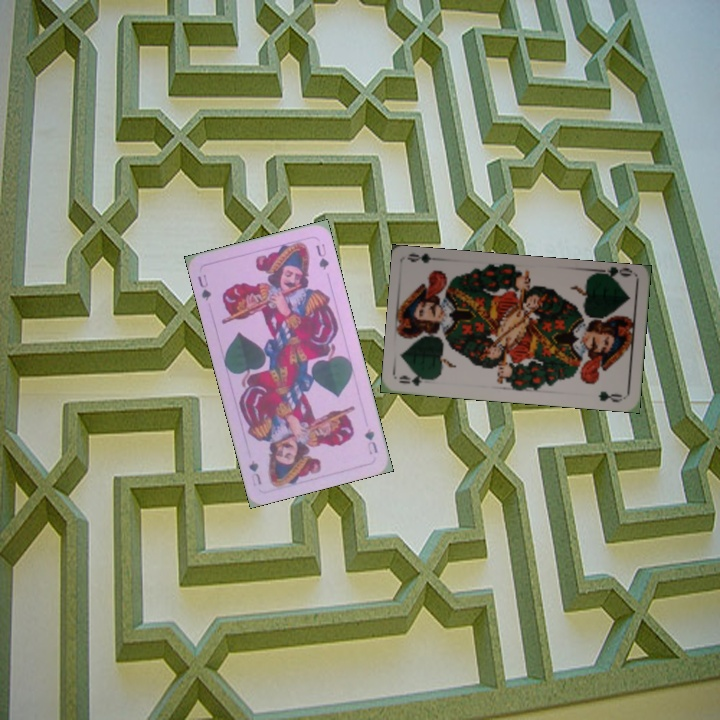GO: (594, 265, 635, 286), (396, 371, 437, 389)
GU: (193, 270, 214, 303), (361, 424, 380, 457)
